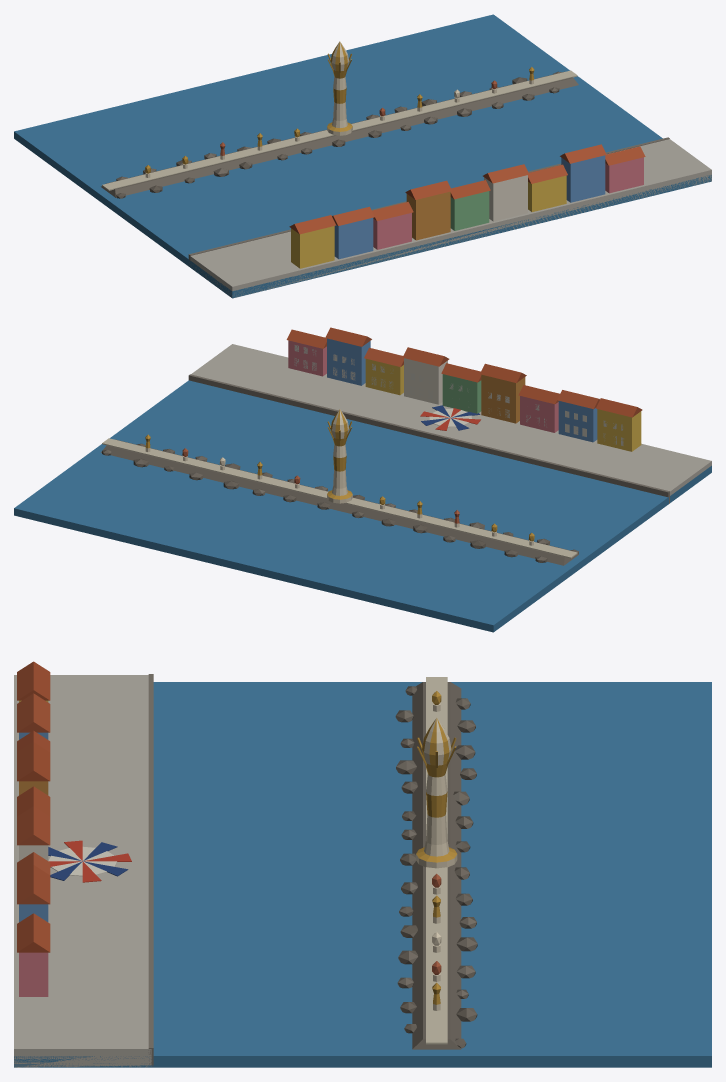
Rendered from parque_esculturas_brennand.glb.
The picture shows the model from 3 angles, top to bottom: view 1: azimuth 30°, elevation 25°; view 2: azimuth 150°, elevation 25°; view 3: azimuth 270°, elevation 25°; orthographic projection. The views are drawn at different scales.
Visible parts, largest first — view 1: parque_esculturas_brennand; view 2: parque_esculturas_brennand; view 3: parque_esculturas_brennand.
Boxes of the visible parts, x1,y1,x2,y2 form: parque_esculturas_brennand: (14,14,711,298); parque_esculturas_brennand: (14,327,711,632); parque_esculturas_brennand: (14,661,711,1067).
Bounding box in the file's own units: 180 × 36.6 × 142.
